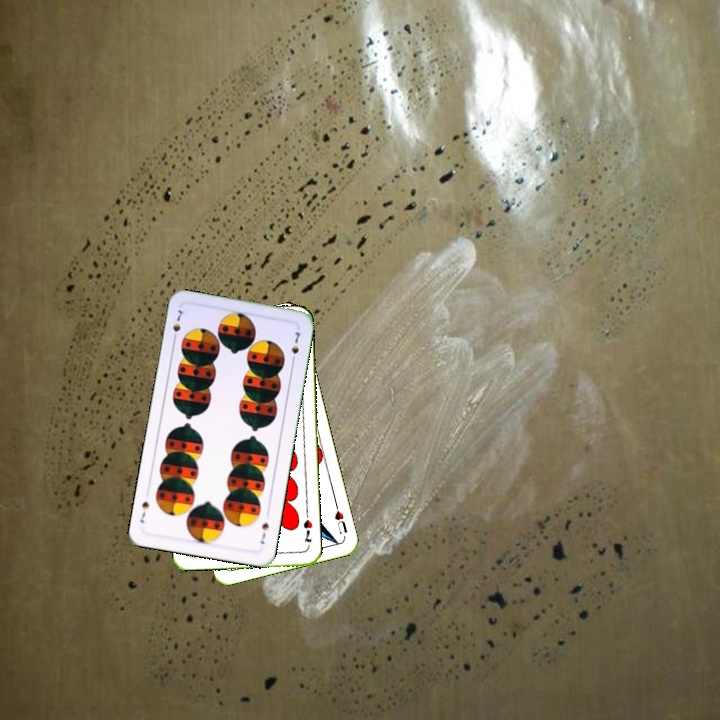H7: (300, 516, 315, 545)
HU: (331, 500, 350, 537)
S7: (168, 306, 187, 344), (256, 519, 271, 547)
